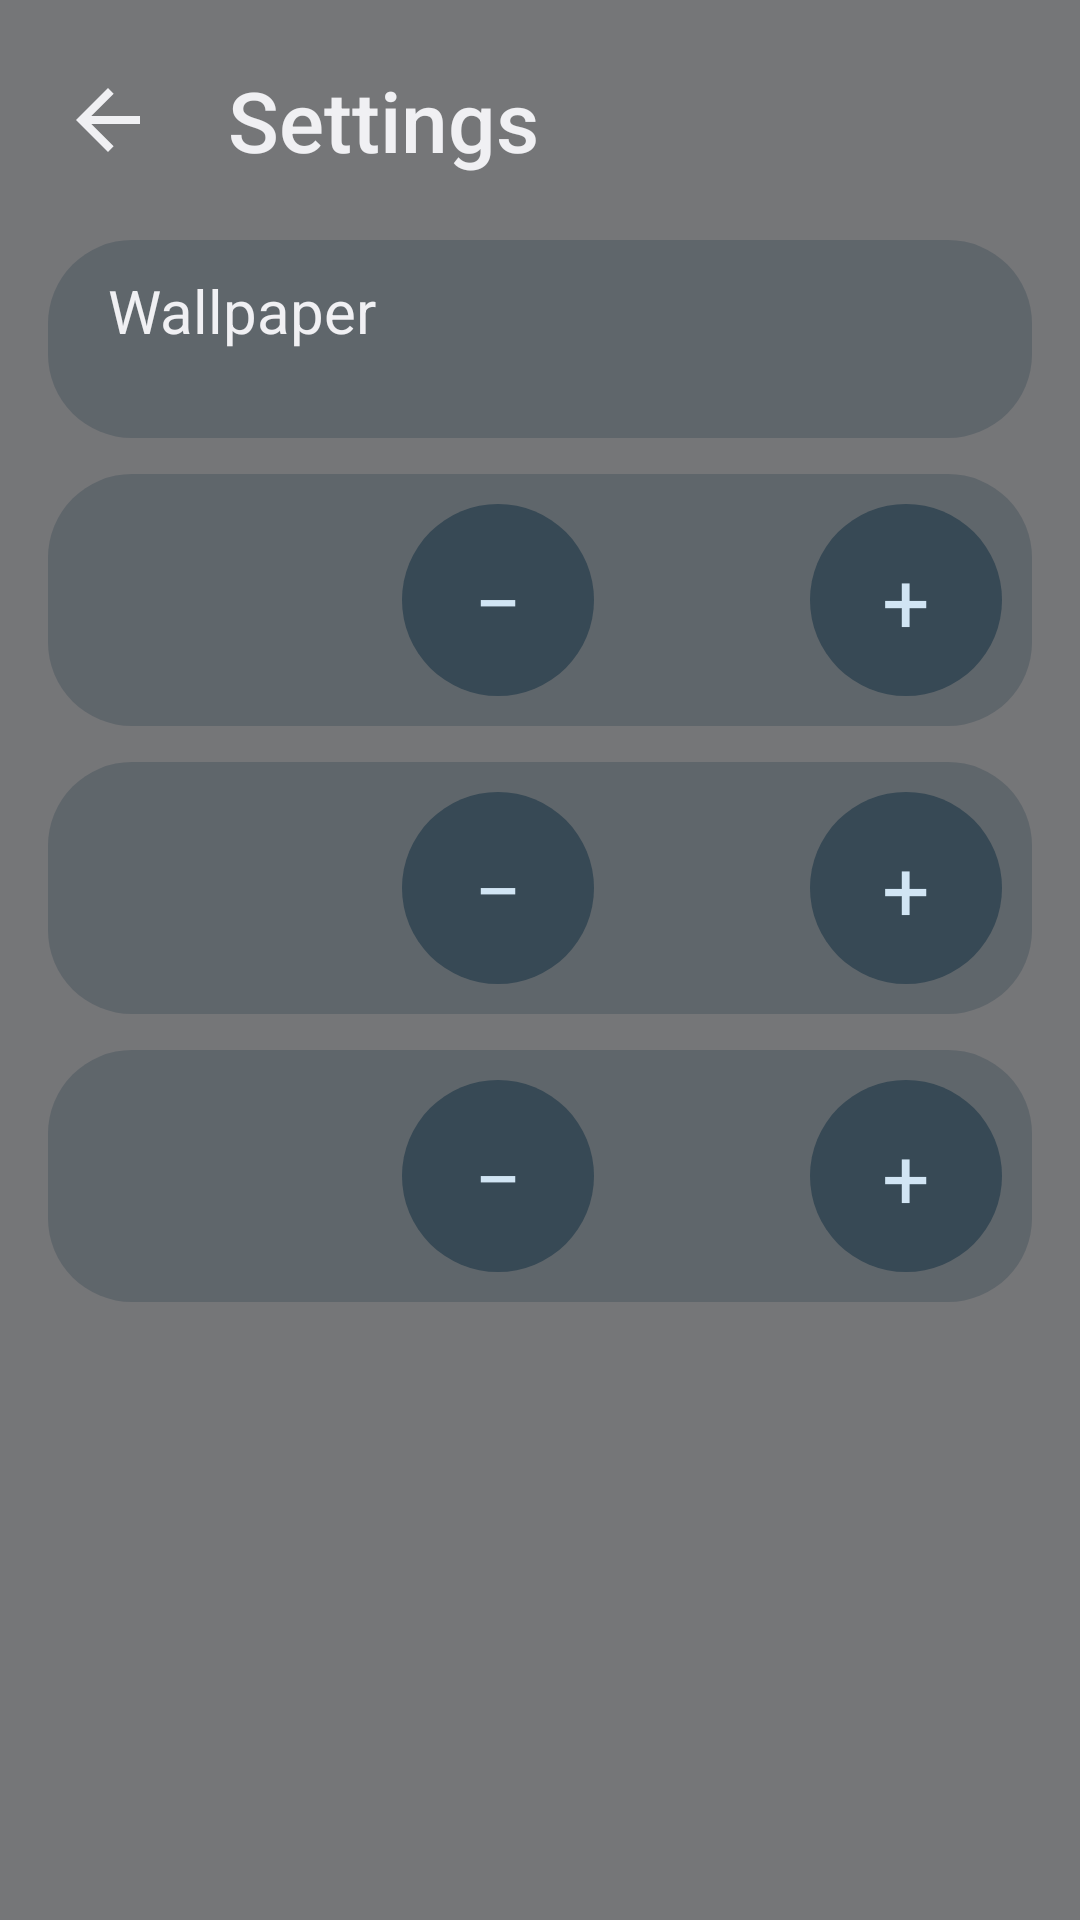

Where to tap for icons on this 1080x1920 app screen, as point (x, y):
Back: point (108, 120)
